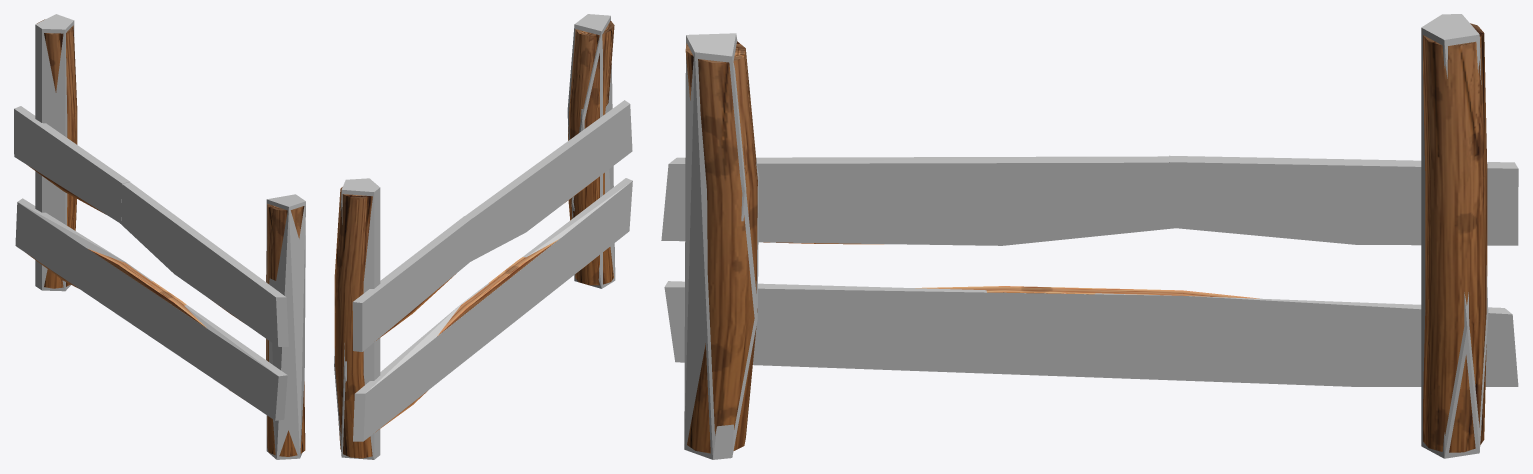
Rendered from SM_Fences03_3.fbx.
3 renders of one model, left to right at view 1: azimuth 30°, elevation 25°; view 2: azimuth 150°, elevation 25°; view 3: azimuth 270°, elevation 25°, orthographic. The views are drawn at different scales.
Visible parts, largest first — view 1: SM_Fences03_3_ConvexHulls, SM_Fences03_3; view 2: SM_Fences03_3_ConvexHulls, SM_Fences03_3; view 3: SM_Fences03_3_ConvexHulls, SM_Fences03_3.
Boxes of the visible parts, bbox=[...] form: SM_Fences03_3_ConvexHulls: bbox=[14, 14, 305, 459]; SM_Fences03_3: bbox=[28, 19, 305, 456]; SM_Fences03_3_ConvexHulls: bbox=[334, 14, 632, 459]; SM_Fences03_3: bbox=[334, 21, 614, 458]; SM_Fences03_3_ConvexHulls: bbox=[661, 14, 1518, 459]; SM_Fences03_3: bbox=[685, 23, 1487, 453].
Size of the model in its own units: 10.92 by 119 by 64.37.
Materials: 2 (1 with a texture image).
